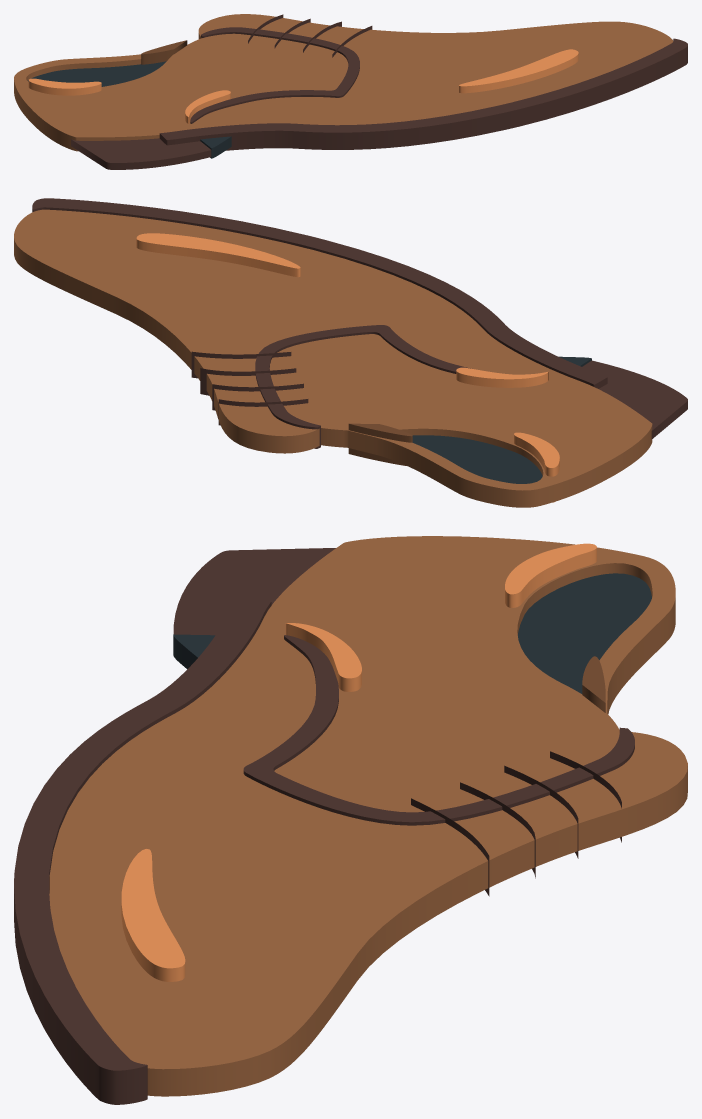
File: emoji_u1f45e.glb
3 renders of one model, top to bottom at view 1: azimuth 30°, elevation 25°; view 2: azimuth 150°, elevation 25°; view 3: azimuth 270°, elevation 25°, orthographic. The views are drawn at different scales.
Visible parts, largest first — view 1: emoji_u1f45e; view 2: emoji_u1f45e; view 3: emoji_u1f45e.
Boxes of the visible parts, box(x1,y1,x2,y2) form: emoji_u1f45e: box(14, 14, 687, 169); emoji_u1f45e: box(14, 198, 687, 507); emoji_u1f45e: box(14, 536, 687, 1104).
Size of the model in its own units: 0.0337 by 0.0016 by 0.0179.
